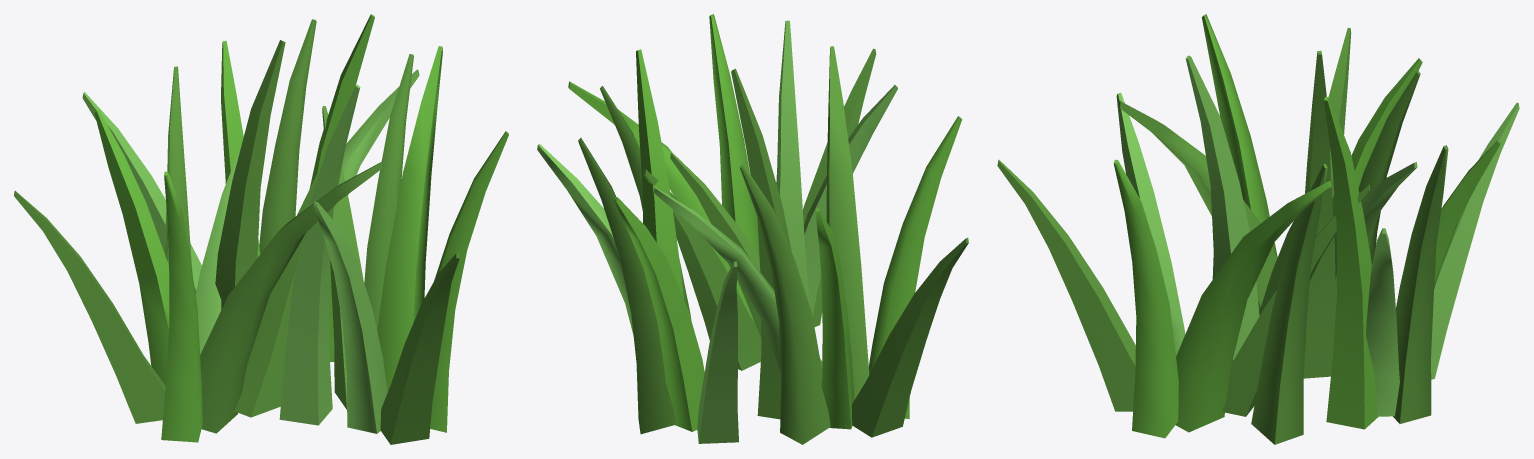
File: Grass_Green_4.fbx
3 views of the same model, side by side, from view 1: azimuth 30°, elevation 25°; view 2: azimuth 150°, elevation 25°; view 3: azimuth 270°, elevation 25° (orthographic). The views are drawn at different scales.
Parts seen in each view (by area): view 1: Cube.059, Cube.045, Cube.061, Cube.046, Cube.057, Cube.060, Cube.044, Cube.043, Cube.041, Cube.054, Cube.053, Cube.039 (+8 smaller); view 2: Cube.040, Cube.044, Cube.052, Cube.045, Cube.053, Cube.046, Cube.041, Cube.049, Cube.062, Cube.043, Cube.059, Cube.055 (+8 smaller); view 3: Cube.061, Cube.050, Cube.039, Cube.062, Cube.053, Cube.060, Cube.043, Cube.059, Cube.051, Cube.049, Cube.046, Cube.057 (+8 smaller).
Part boxes in pixels (<box>): Cube.059: <box>279,84,360,425</box>; Cube.045: <box>200,162,382,433</box>; Cube.061: <box>377,46,442,391</box>; Cube.046: <box>161,171,202,442</box>; Cube.057: <box>313,201,387,433</box>; Cube.060: <box>380,252,459,444</box>; Cube.044: <box>14,191,165,423</box>; Cube.043: <box>215,40,285,309</box>; Cube.041: <box>94,109,169,385</box>; Cube.054: <box>234,164,322,417</box>; Cube.053: <box>259,19,316,253</box>; Cube.039: <box>364,54,413,330</box>; Cube.040: <box>739,164,830,444</box>; Cube.044: <box>852,237,968,437</box>; Cube.052: <box>613,196,704,431</box>; Cube.045: <box>826,46,869,399</box>; Cube.053: <box>578,138,675,434</box>; Cube.046: <box>869,116,962,419</box>; Cube.041: <box>815,208,854,429</box>; Cube.049: <box>697,261,738,443</box>; Cube.062: <box>709,14,759,257</box>; Cube.043: <box>731,68,791,419</box>; Cube.059: <box>776,20,809,306</box>; Cube.055: <box>643,168,761,370</box>; Cube.061: <box>1175,180,1331,432</box>; Cube.050: <box>1324,96,1378,429</box>; Cube.039: <box>1251,163,1327,444</box>; Cube.062: <box>1113,159,1178,438</box>; Cube.053: <box>1393,145,1448,423</box>; Cube.060: <box>997,159,1135,411</box>; Cube.043: <box>1303,50,1335,378</box>; Cube.059: <box>1185,55,1259,361</box>; Cube.051: <box>1366,228,1399,416</box>; Cube.049: <box>1431,102,1519,379</box>; Cube.046: <box>1201,14,1277,258</box>; Cube.057: <box>1116,92,1185,356</box>.
Size of the model in its own units: 159 by 123 by 169.
